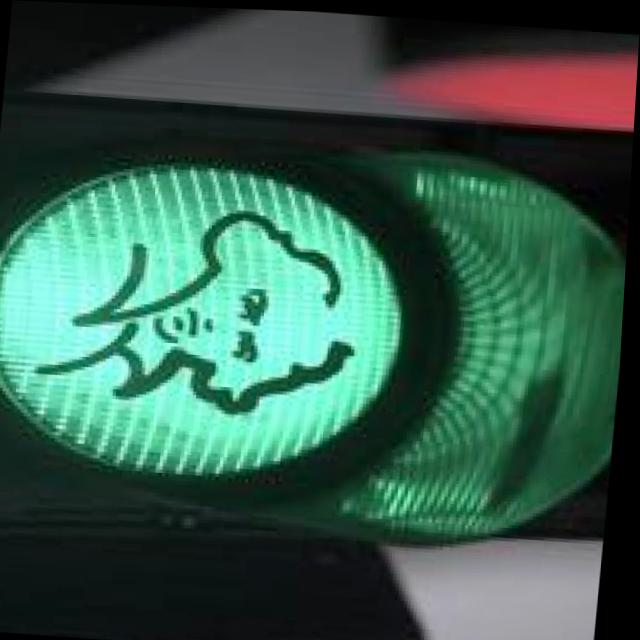green_light: (0, 53, 473, 570)
